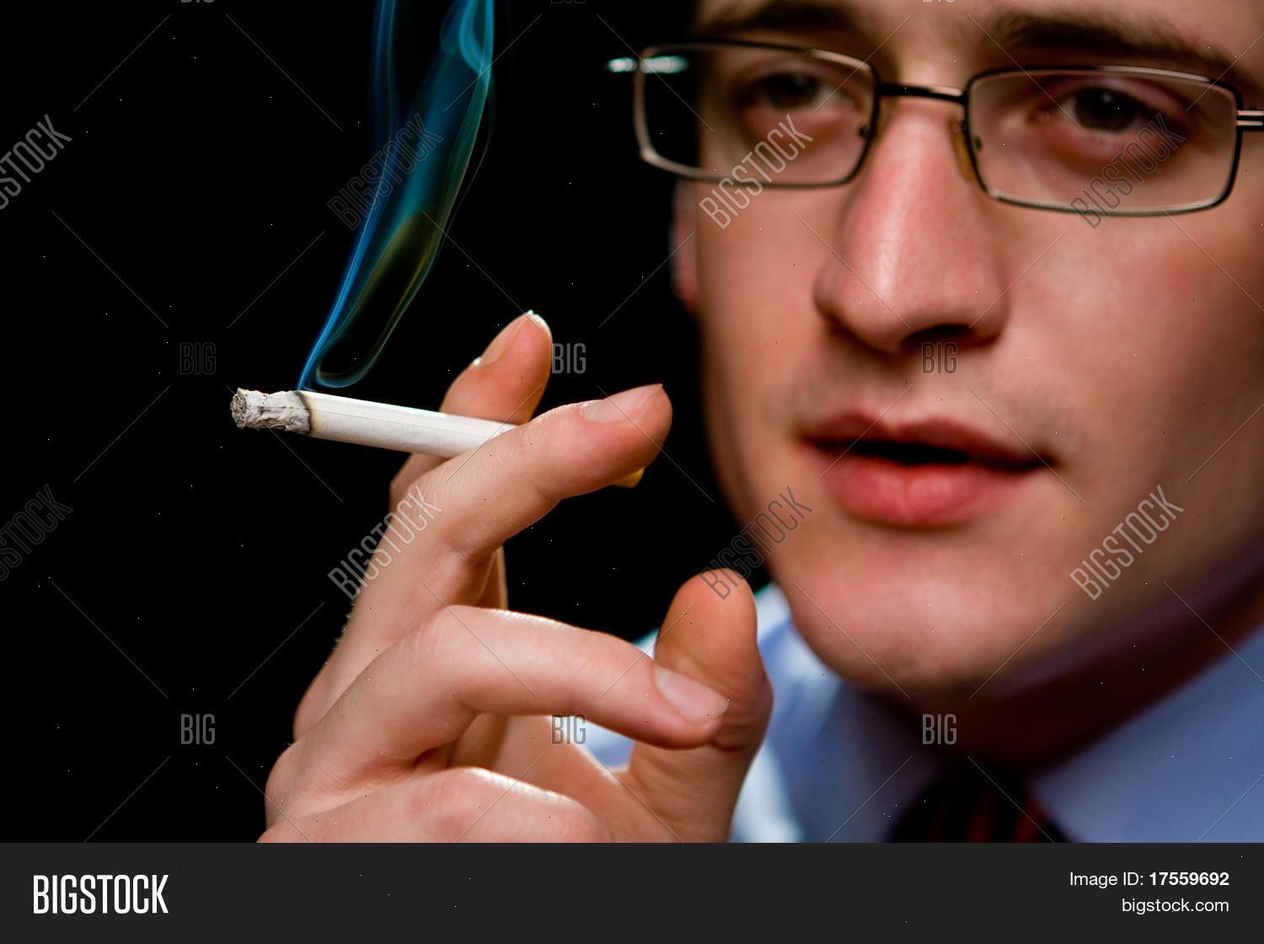cigarette: (232, 389, 515, 457)
